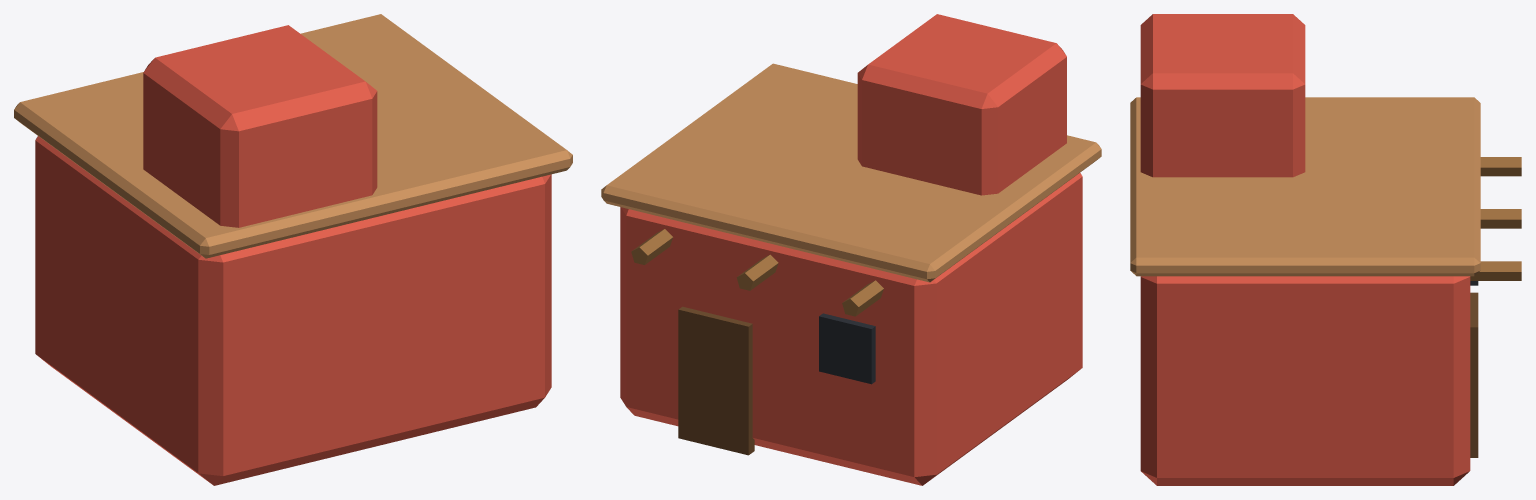
The model's file is house_adobe.glb.
The picture shows the model from 3 angles, left to right: view 1: azimuth 30°, elevation 25°; view 2: azimuth 150°, elevation 25°; view 3: azimuth 270°, elevation 25°; orthographic projection. The views are drawn at different scales.
Visible parts, largest first — view 1: house_adobe; view 2: house_adobe; view 3: house_adobe.
Boxes of the visible parts, box(x1,y1,x2,y2) form: house_adobe: box(14, 14, 572, 485); house_adobe: box(601, 14, 1101, 485); house_adobe: box(1130, 14, 1521, 485).
Size of the model in its own units: 1.9 by 1.8 by 1.9.
1 material, 1 textured.
